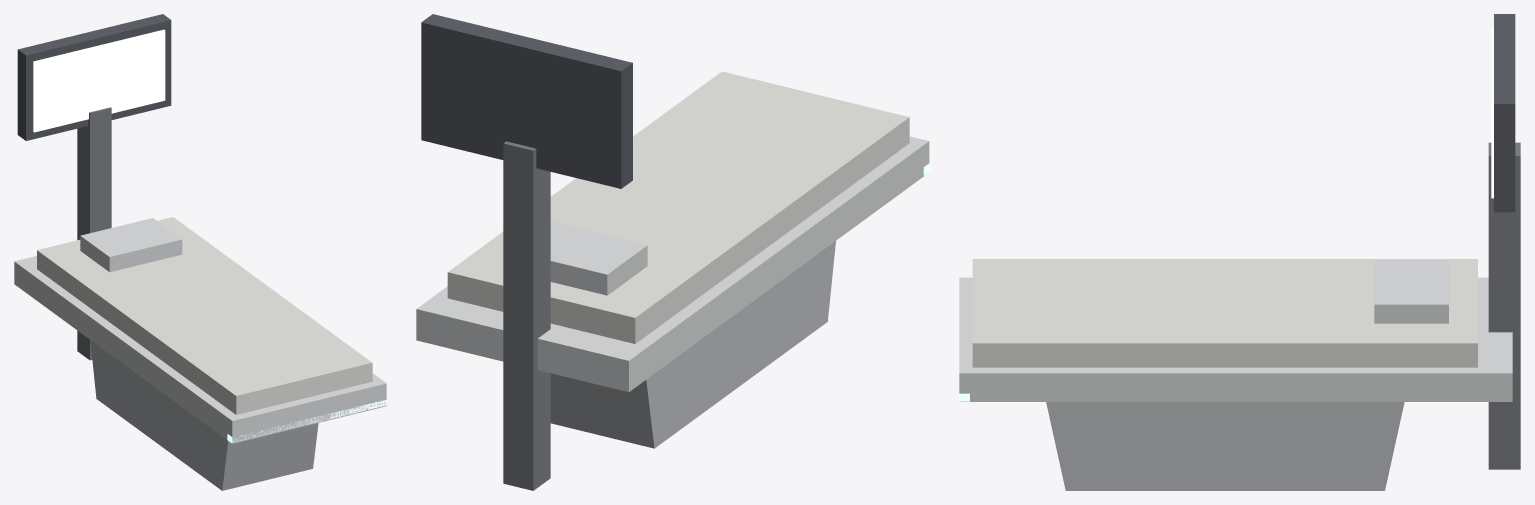
Rendered from SM_Med_Bed.fbx.
3 renders of one model, left to right at view 1: azimuth 30°, elevation 25°; view 2: azimuth 150°, elevation 25°; view 3: azimuth 270°, elevation 25°, orthographic. The views are drawn at different scales.
Parts seen in each view (by area): view 1: SM_Med_Bed; view 2: SM_Med_Bed; view 3: SM_Med_Bed.
Boxes of the visible parts, box(x1,y1,x2,y2) form: SM_Med_Bed: box(14, 14, 387, 490); SM_Med_Bed: box(416, 14, 930, 490); SM_Med_Bed: box(959, 14, 1520, 490).
Bounding box in the file's own units: 0.86 × 1.68 × 2.11.
